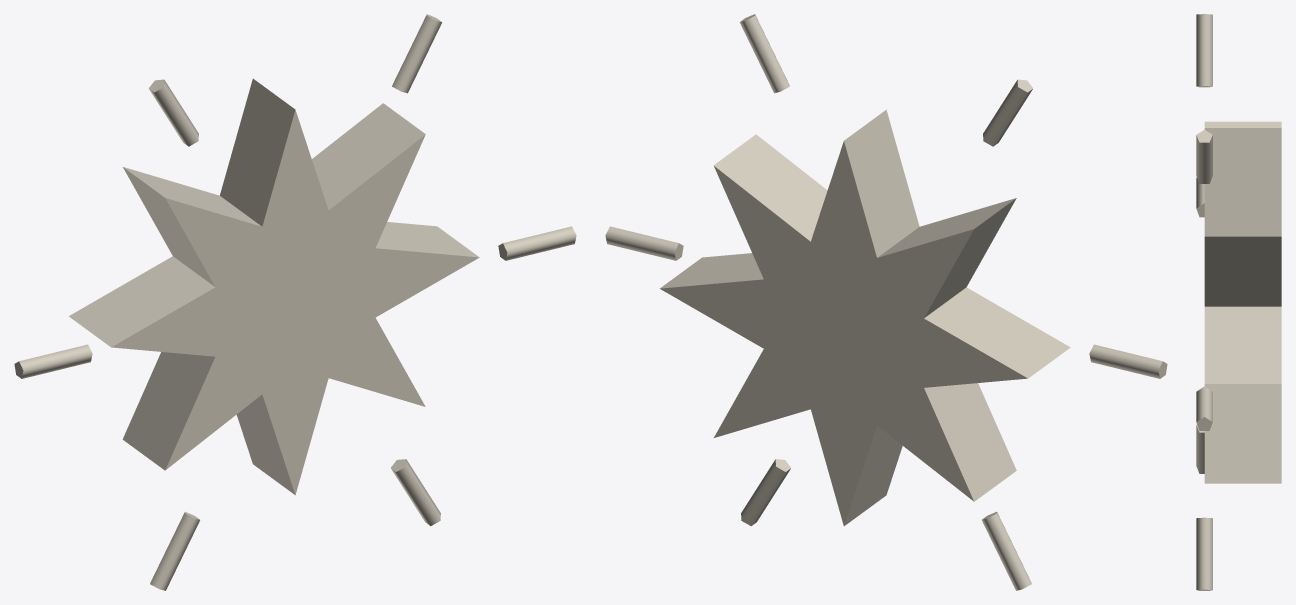
The model's file is sun.glb.
The picture shows the model from 3 angles, left to right: view 1: azimuth 30°, elevation 25°; view 2: azimuth 150°, elevation 25°; view 3: azimuth 270°, elevation 25°; orthographic projection. The views are drawn at different scales.
Parts seen in each view (by area): view 1: sun; view 2: sun; view 3: sun.
Boxes of the visible parts, x1,y1,x2,y2 form: sun: (14,14,576,590); sun: (605,14,1167,590); sun: (1196,14,1281,590).
Size of the model in its own units: 0.54 by 0.475 by 0.0797.
